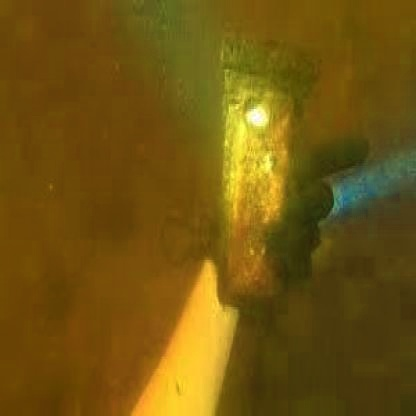cellphone: (223, 76, 296, 310)
